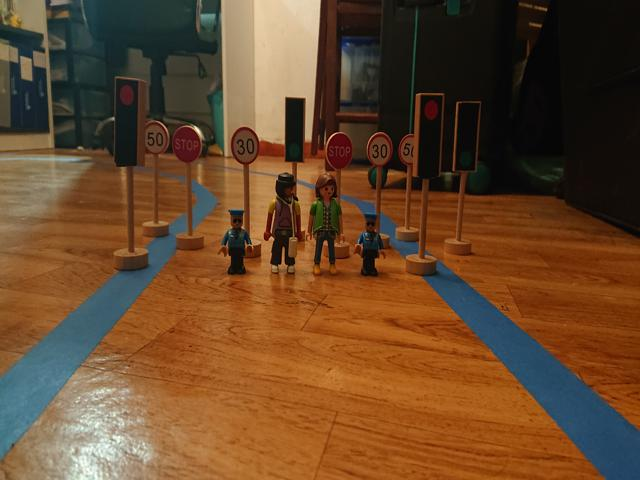30 speed sign: (229, 127, 263, 165), (367, 134, 393, 168)
50 speed sign: (144, 120, 168, 156), (398, 134, 416, 171)
green light: (457, 105, 477, 170), (285, 97, 303, 163)
person: (261, 176, 305, 276), (306, 175, 345, 275), (353, 210, 389, 278), (221, 206, 253, 277)
red light: (115, 82, 137, 161), (420, 96, 441, 171)
stop sign: (325, 133, 354, 171), (172, 125, 201, 162)
